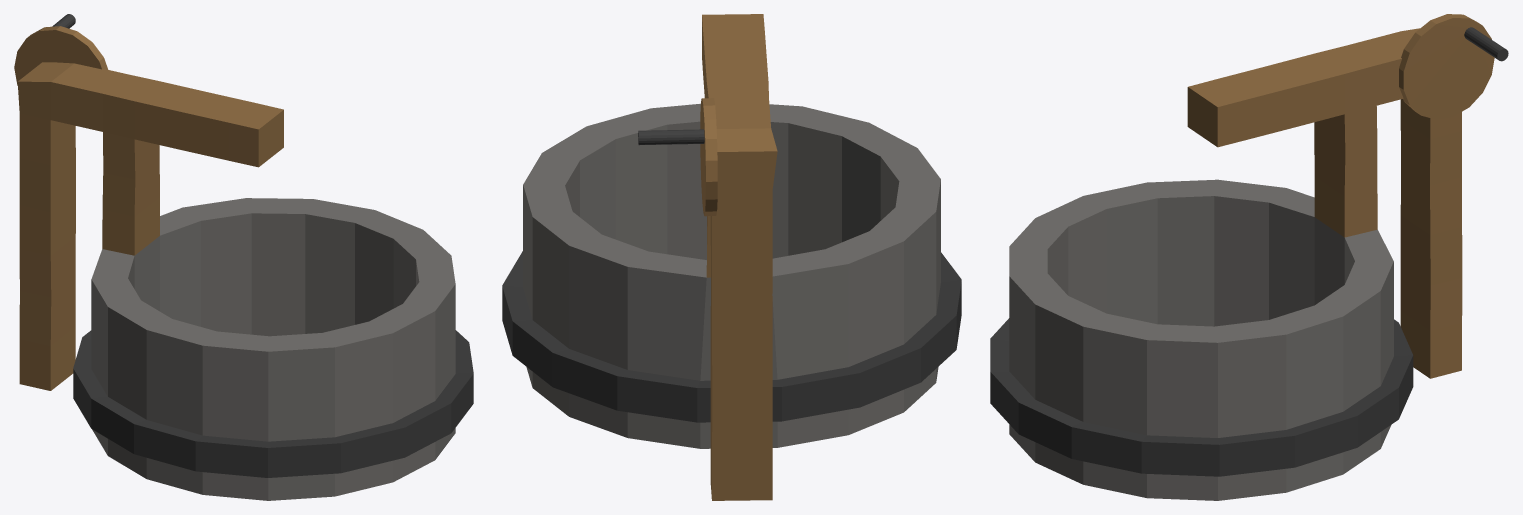
Rendered from Well_T1.fbx.
The picture shows the model from 3 angles, left to right: view 1: azimuth 30°, elevation 25°; view 2: azimuth 150°, elevation 25°; view 3: azimuth 270°, elevation 25°; orthographic projection. The views are drawn at different scales.
Parts seen in each view (by area): view 1: Well_T1; view 2: Well_T1; view 3: Well_T1.
Part boxes in pixels (bbox=[...]): Well_T1: bbox=[14, 14, 473, 500]; Well_T1: bbox=[502, 14, 961, 500]; Well_T1: bbox=[990, 14, 1508, 500].
Size of the model in its own units: 110 by 102 by 134.
